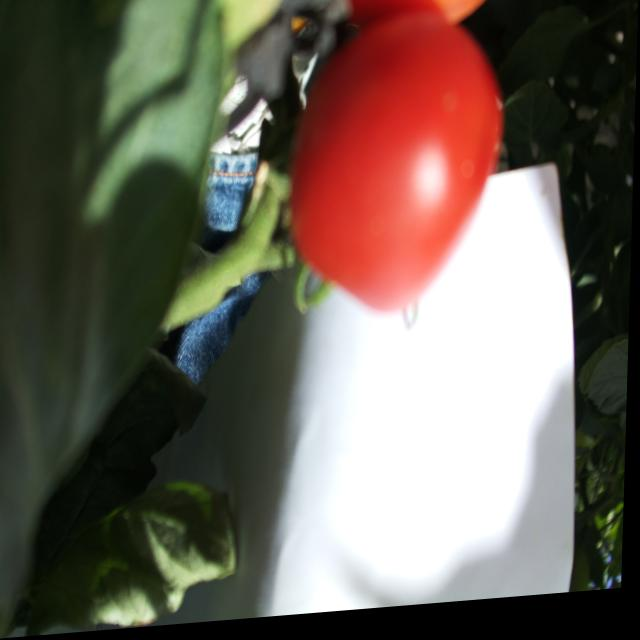kirmizi: (254, 0, 554, 326)
